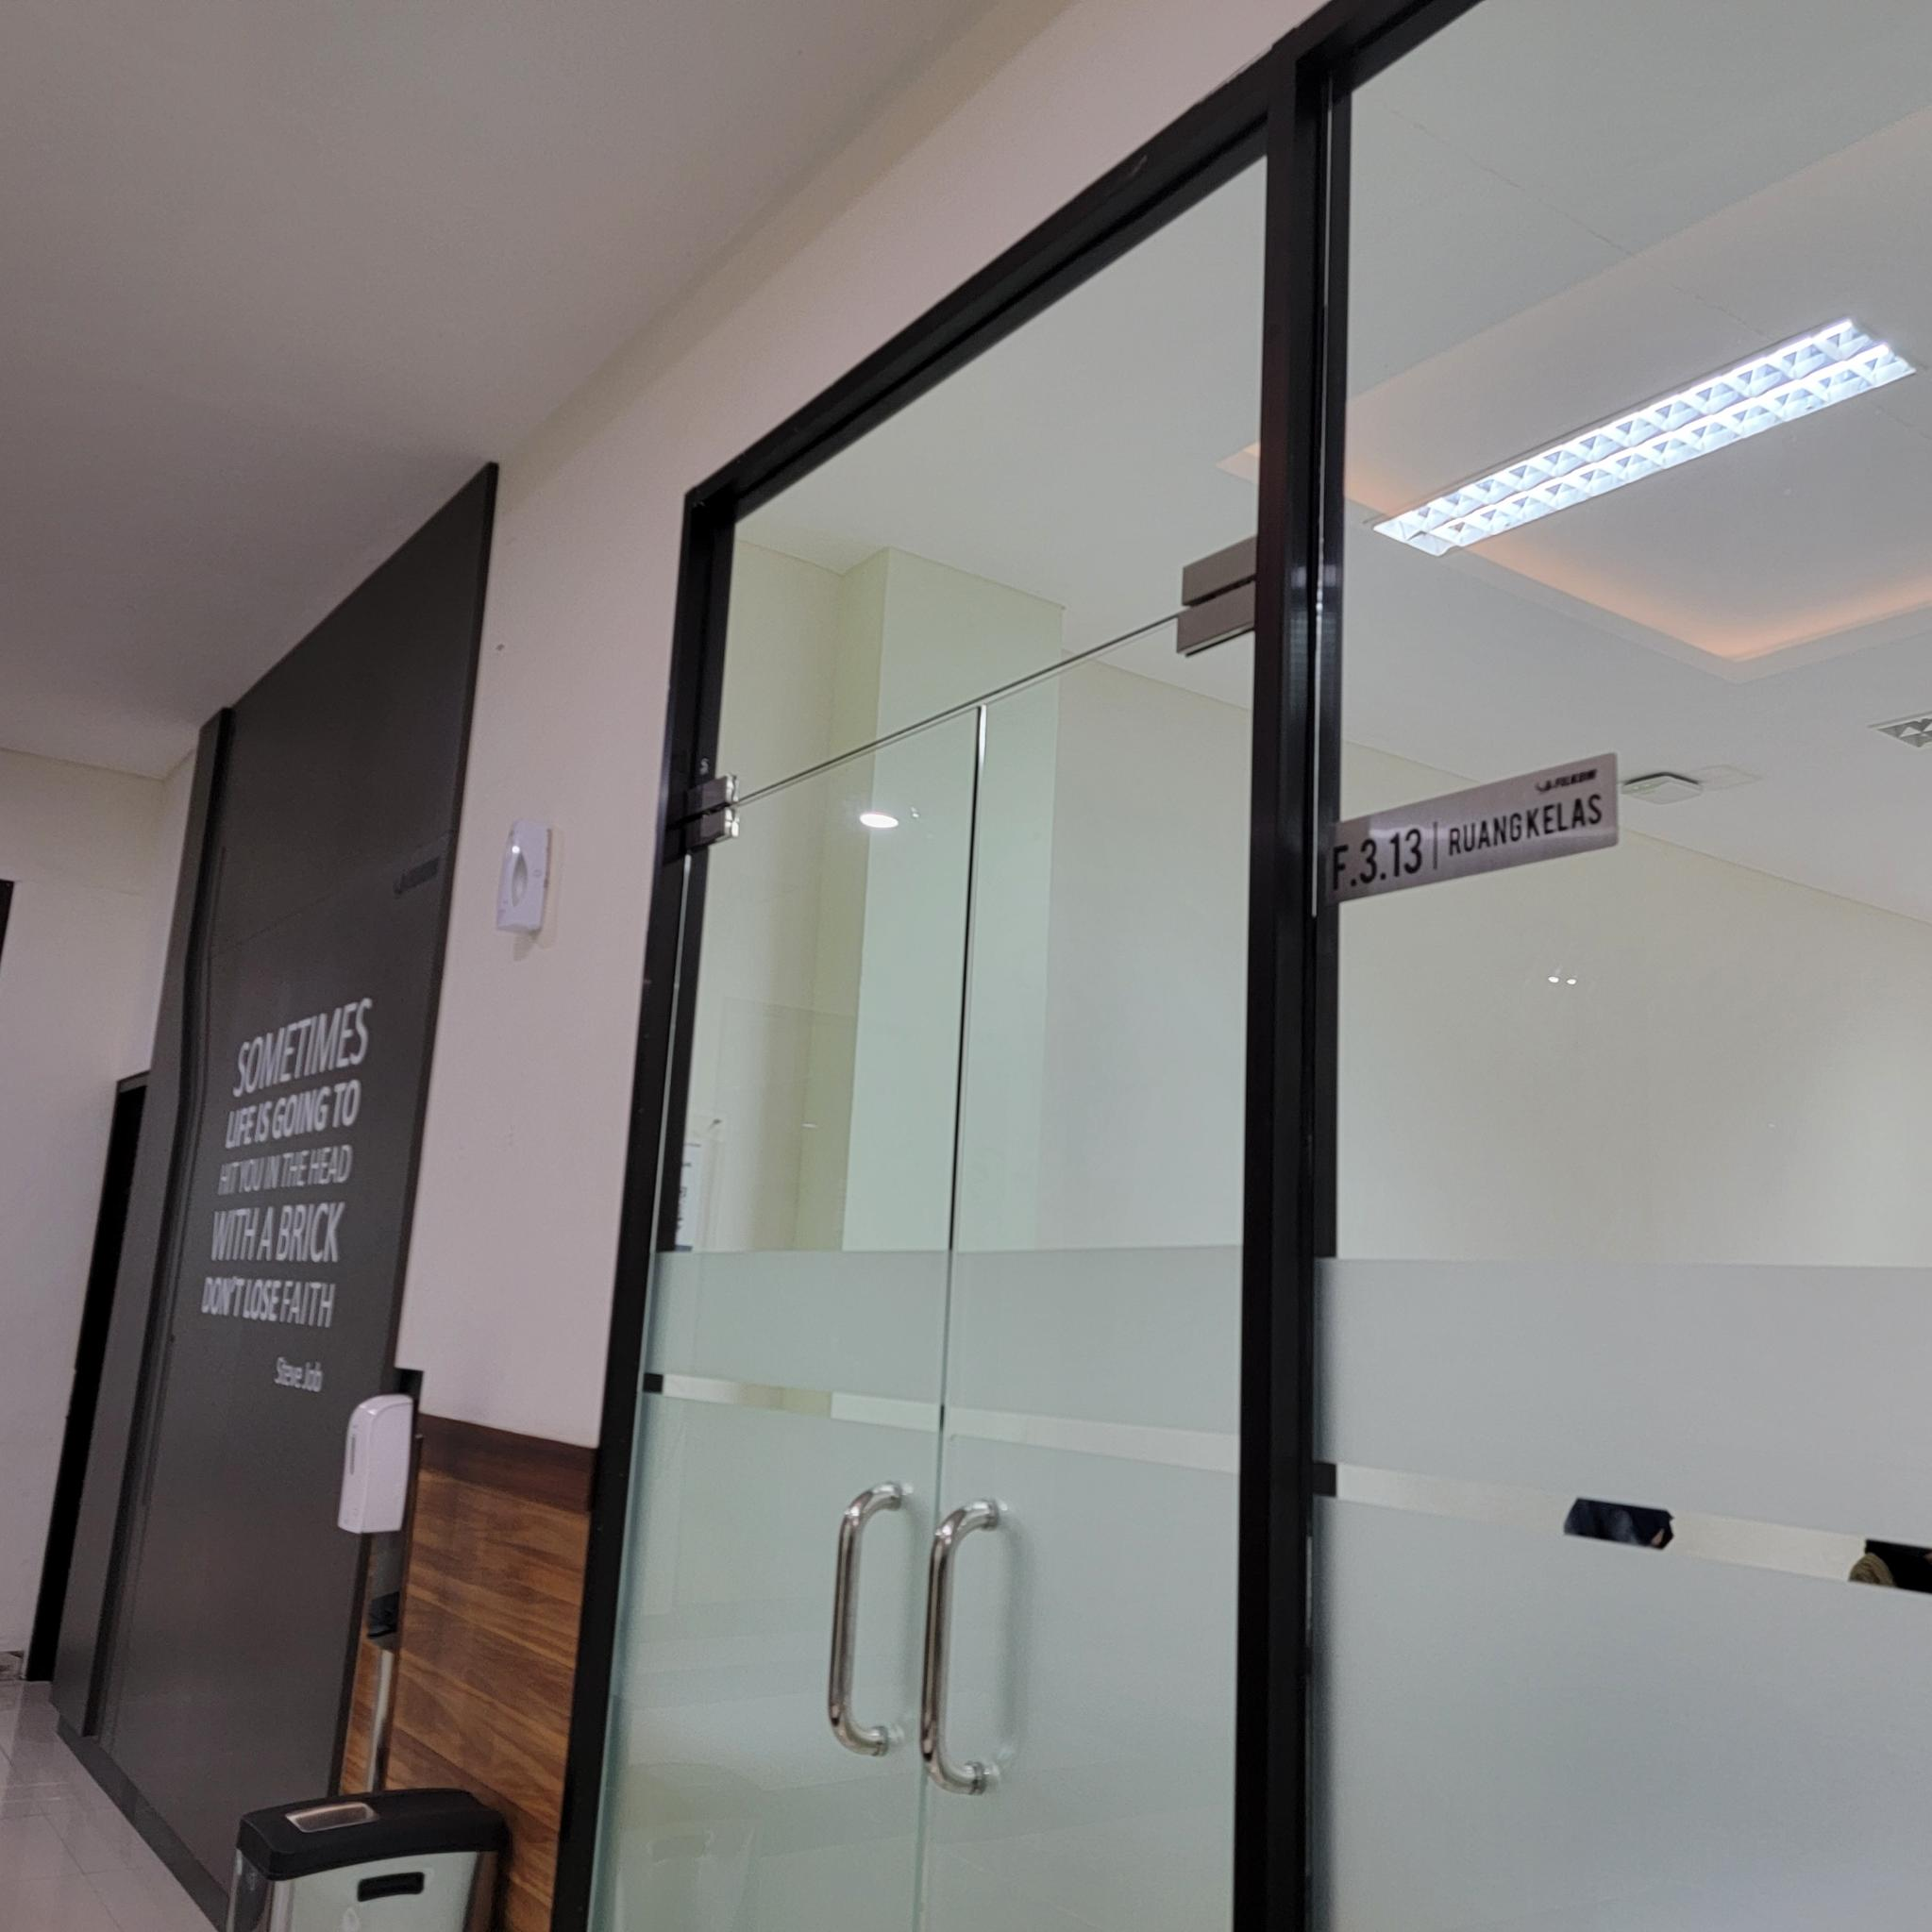plate: (1325, 754, 1621, 906)
